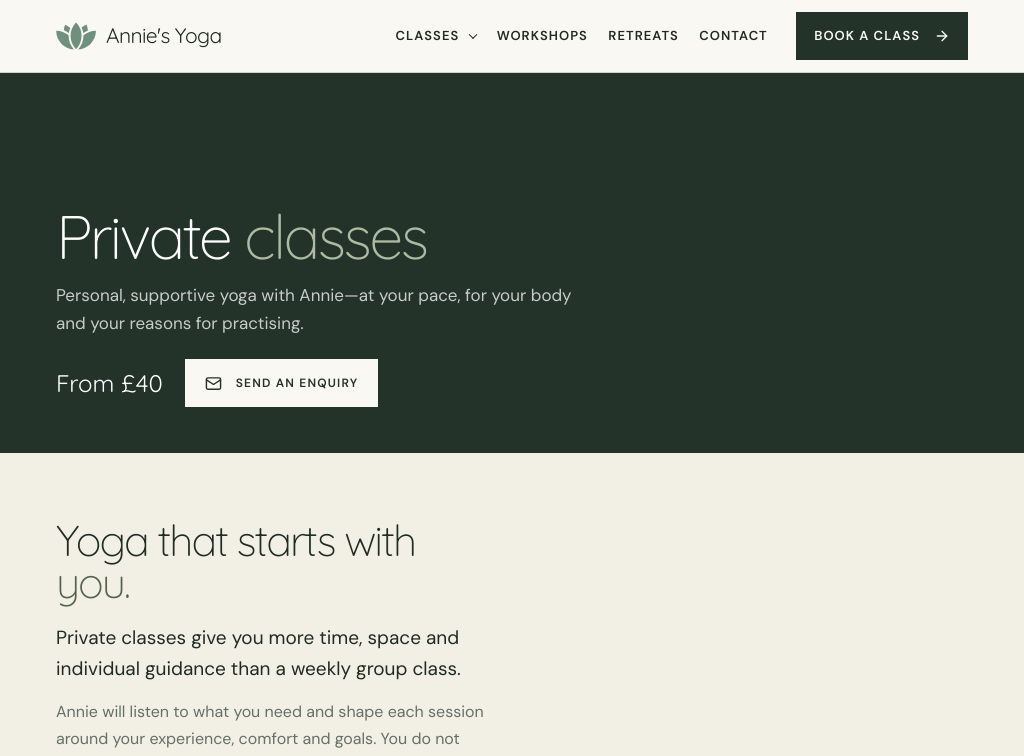
Test case: PrivateClassesPage › opens a focused private-class enquiry with direct contact alternatives
This screenshot has width=1024, height=756.
Step 1. Click the button "Send an enquiry" → {"x": 282, "y": 383}, box [185, 359, 378, 407]
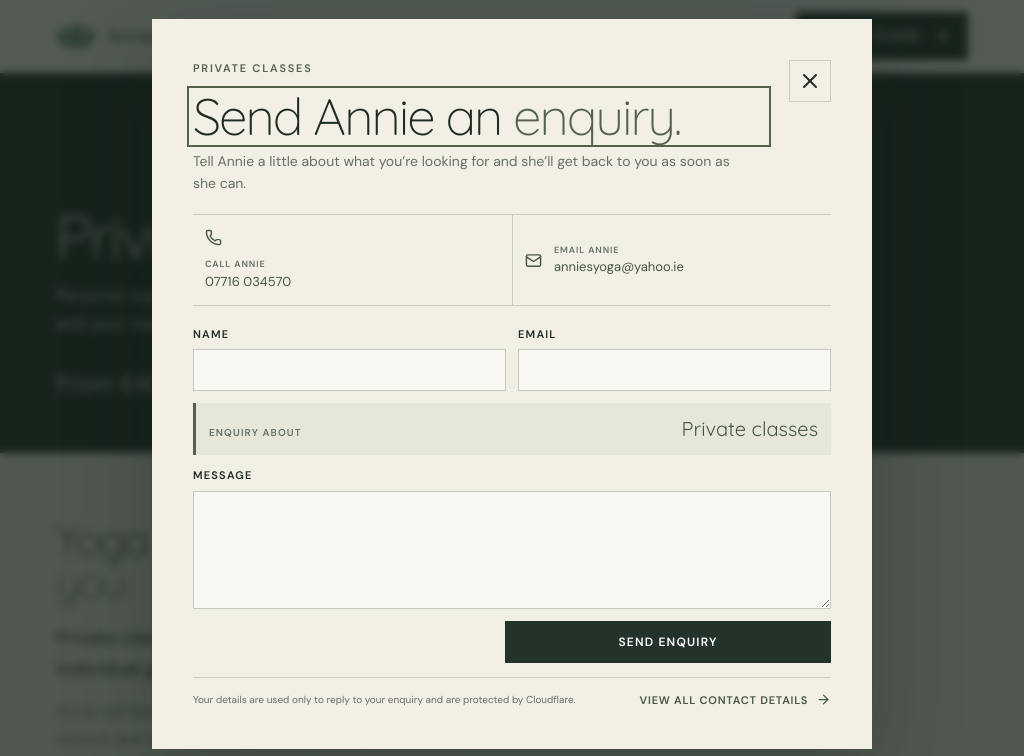
Check: the dialog "Send Annie an enquiry." is shown
Check: the text "Private classes" in the row of "Enquiry about" is shown, box [682, 416, 818, 441]
Check: the text "07716 034570" is shown, box [205, 273, 291, 290]
Step 2. Click the button named "Close enquiry" → {"x": 810, "y": 81}, box [789, 60, 831, 102]
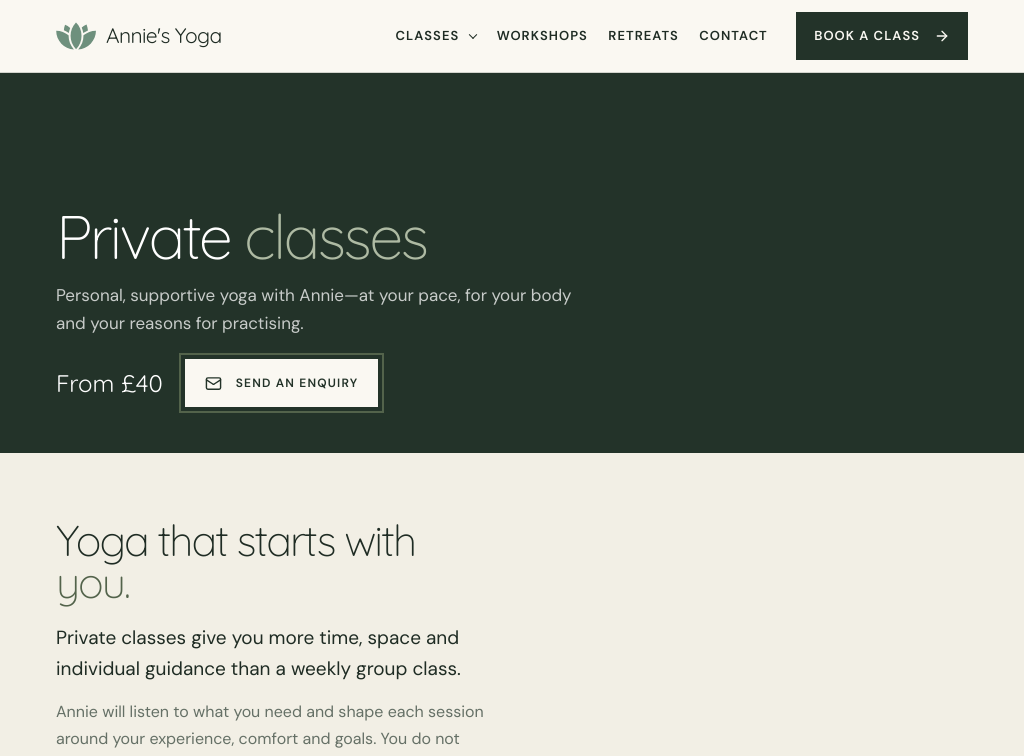
Check: the heading "Send Annie an enquiry." is gone
